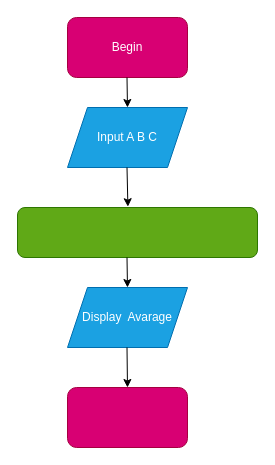
The diagram is 275 pixels wide and 465 high, and some of its shapes have lost their labels. The centre of each missing label's shape, as x and y in pixels:
Average = (Math + Physics + Chemistry): point 137,232
End: point 127,417
